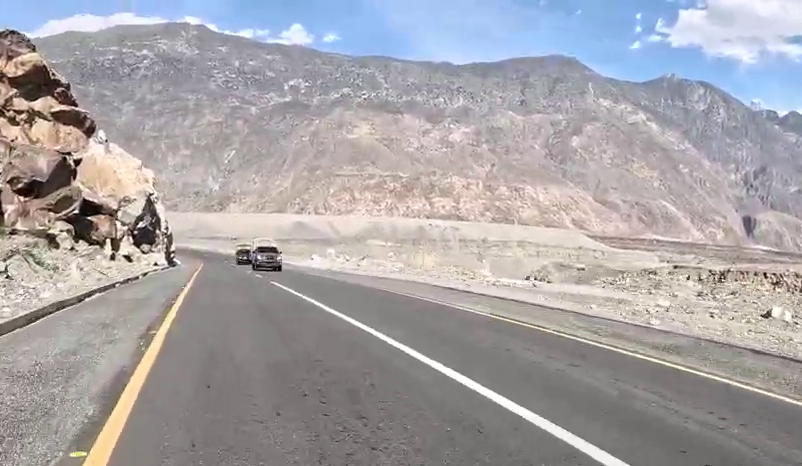left: (184, 294, 691, 466)
